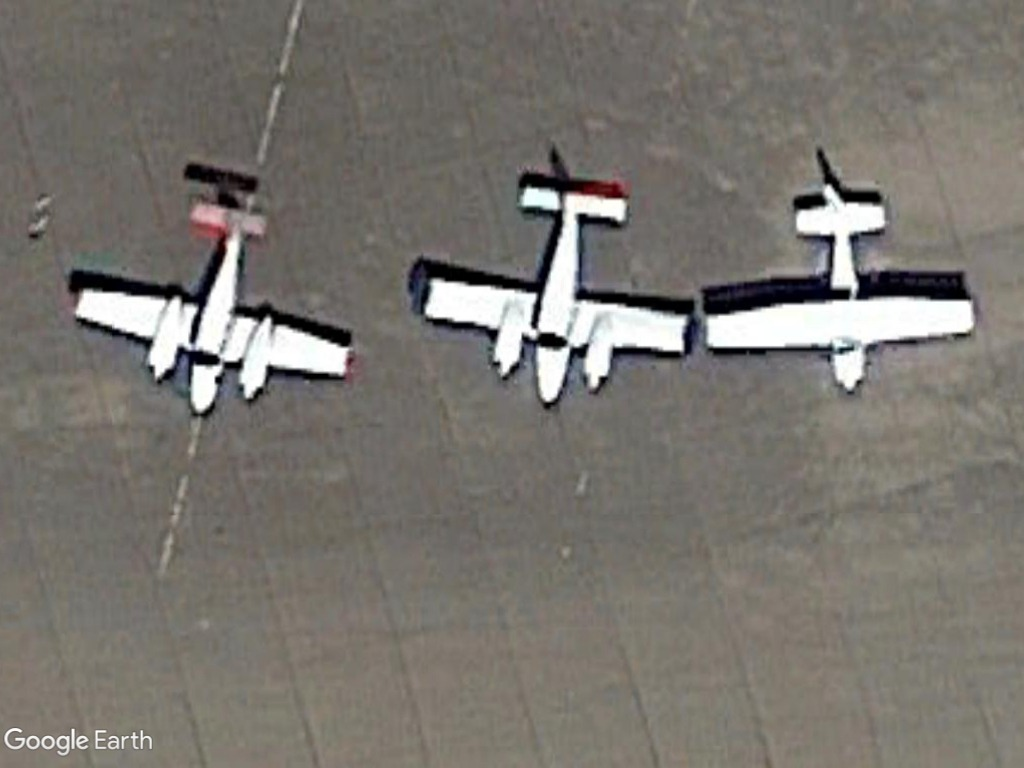propeller: (67, 198, 361, 425), (418, 174, 696, 410)
trainer: (698, 179, 979, 395)
